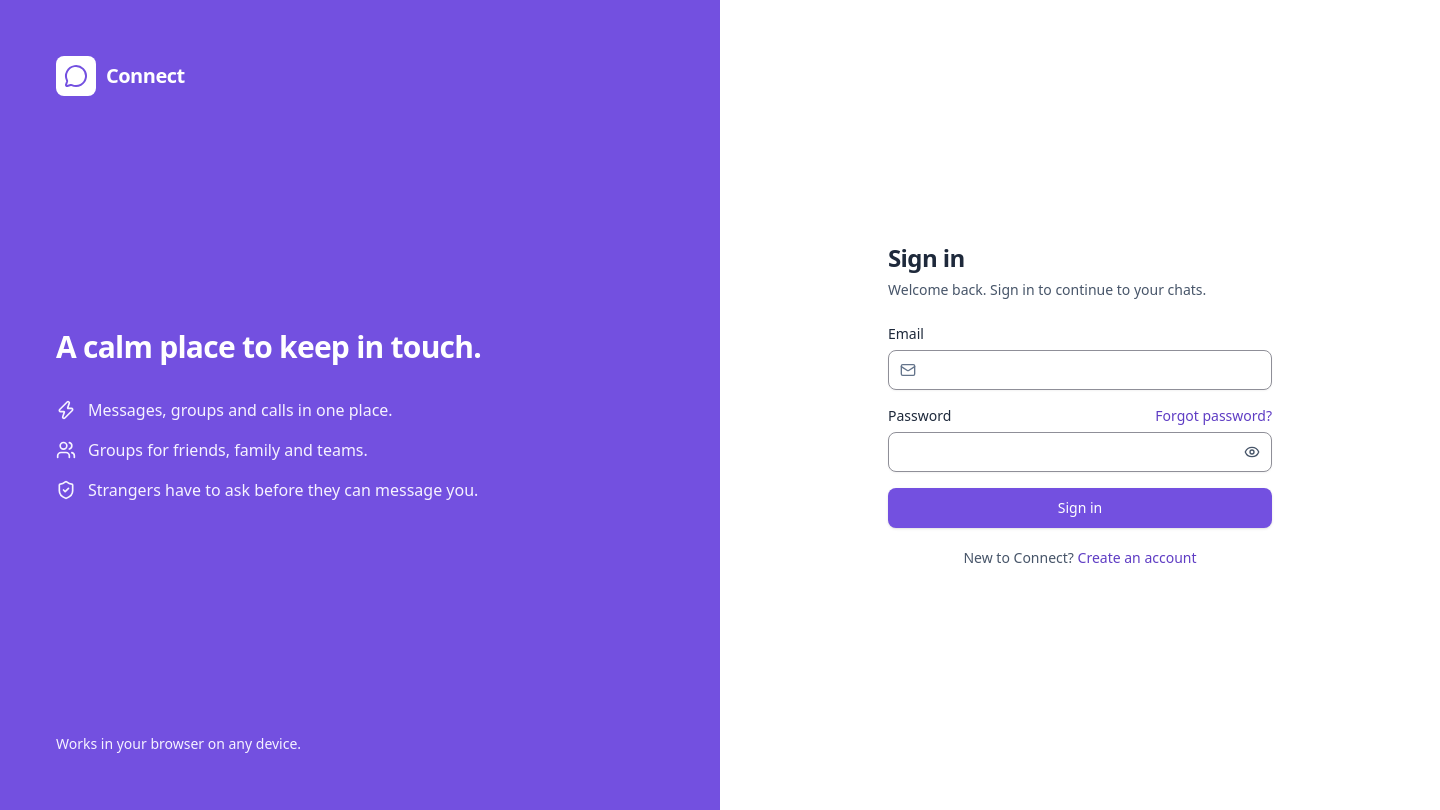
Test: LoginPage › shows the server error for wrong credentials
This screenshot has width=1440, height=810.
Type "ada@example.com" into the field labelled "Email" at (1080, 370), box [888,350,1272,390]
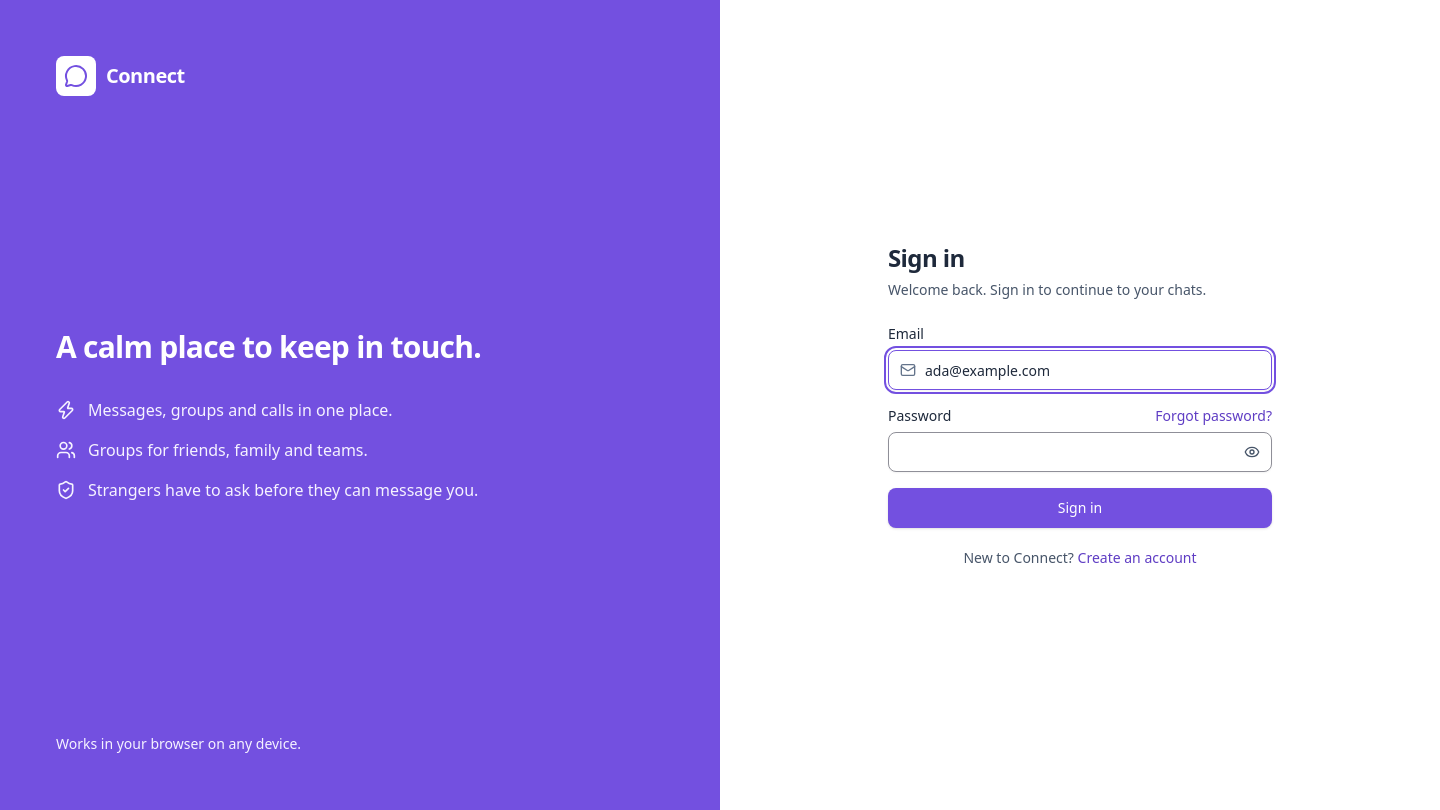
Type "wrong" into the password field labelled "Password" at (1080, 452), box [888,432,1272,472]
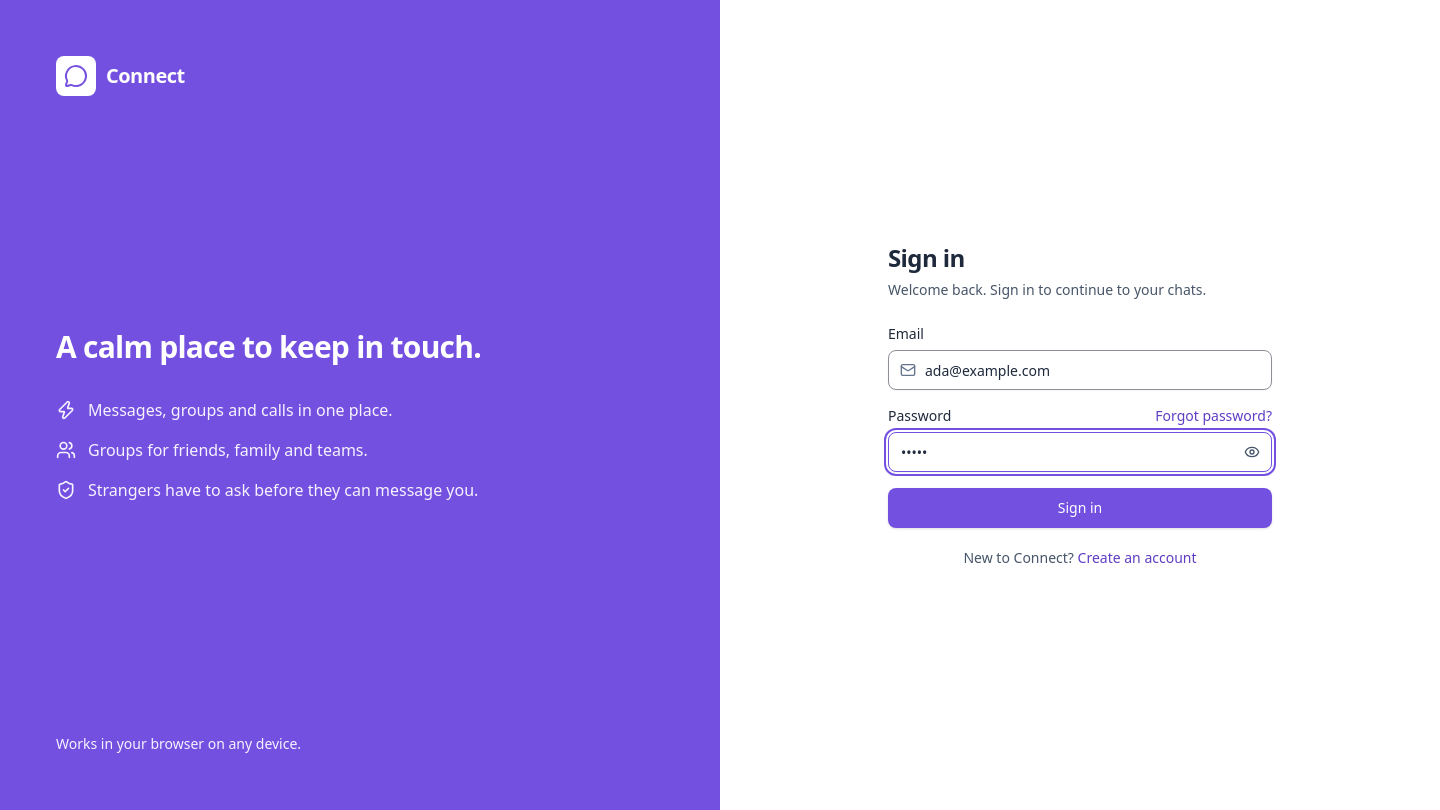
Click the button "Sign in" at (1080, 508), box [888,488,1272,528]
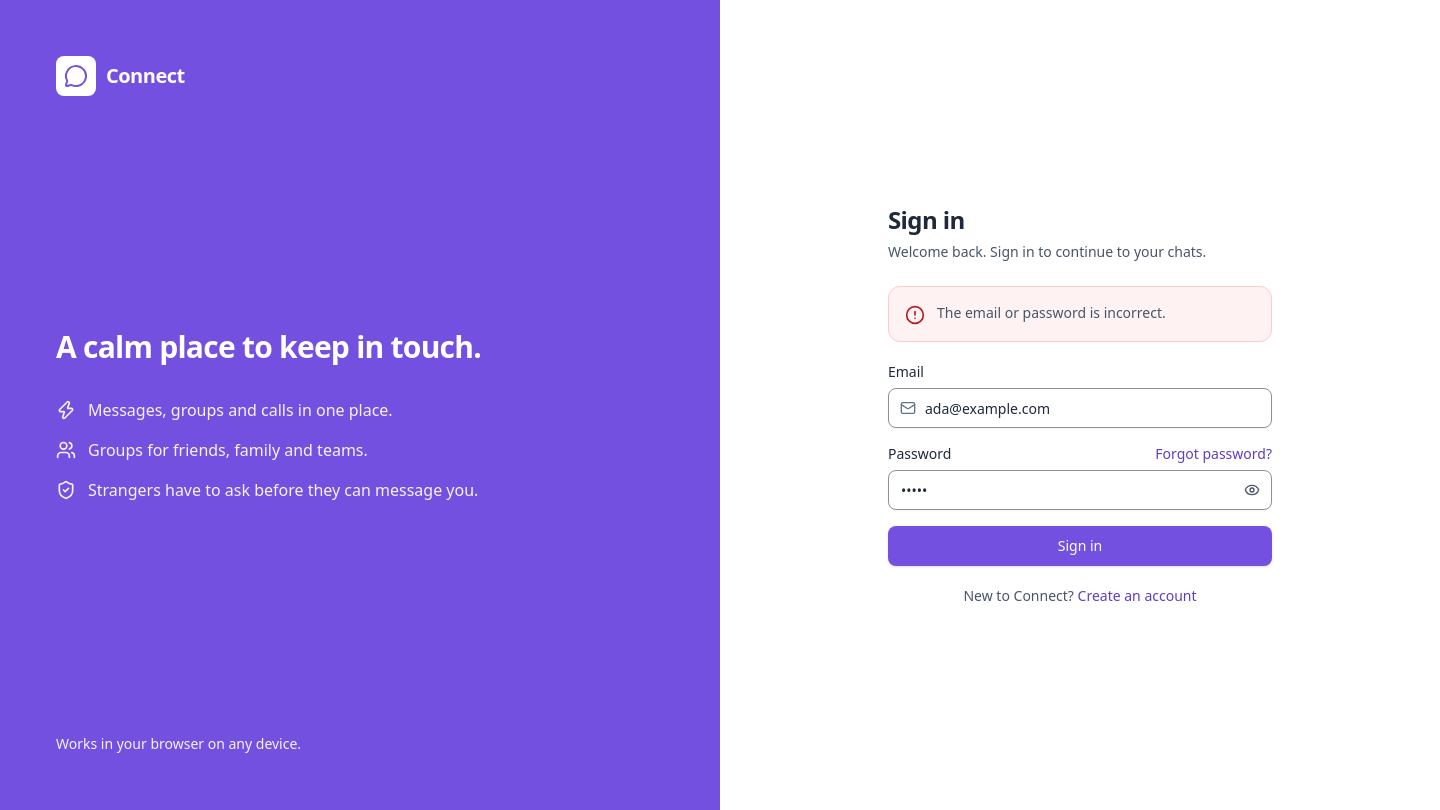
Expected: the message reads "The email or password is incorrect.", [937,303,1166,322]
